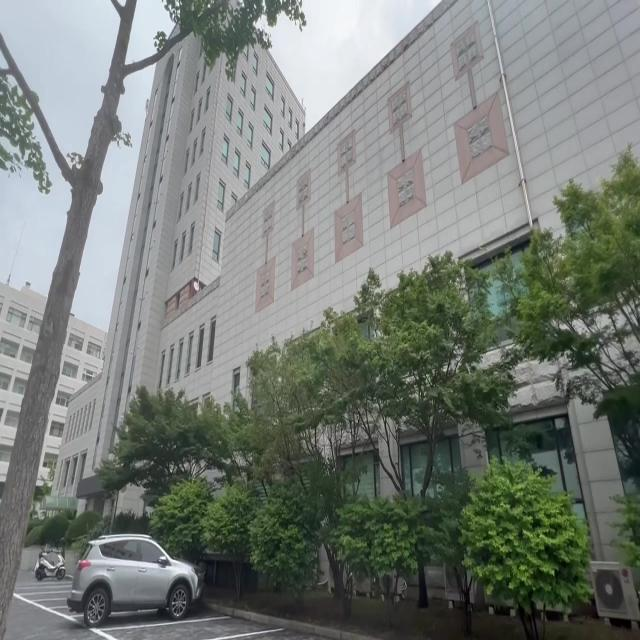building: (136, 75, 520, 283)
